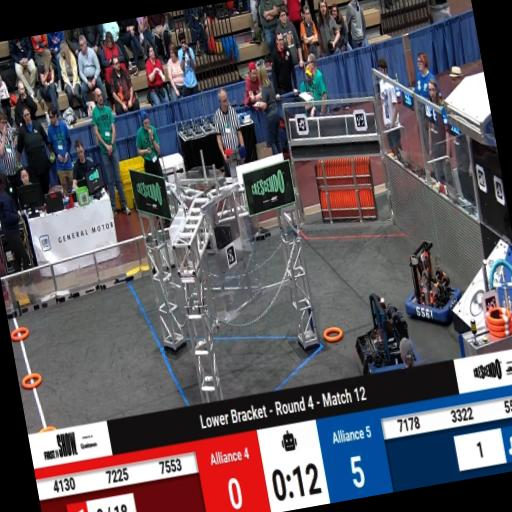robot: (346, 288, 420, 376), (396, 236, 464, 328)
